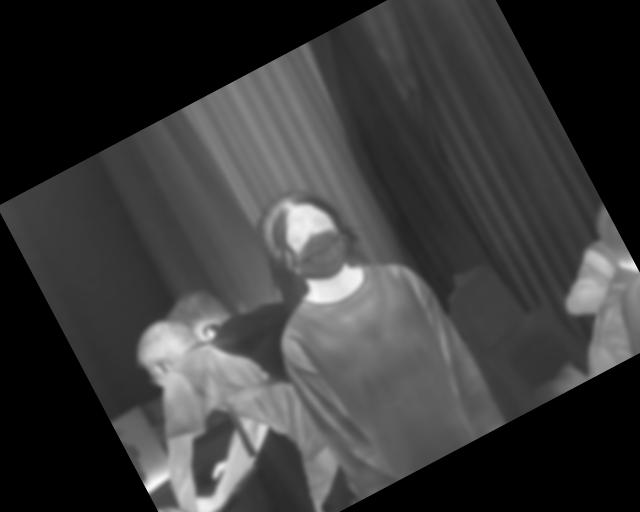face: (247, 175, 362, 299)
